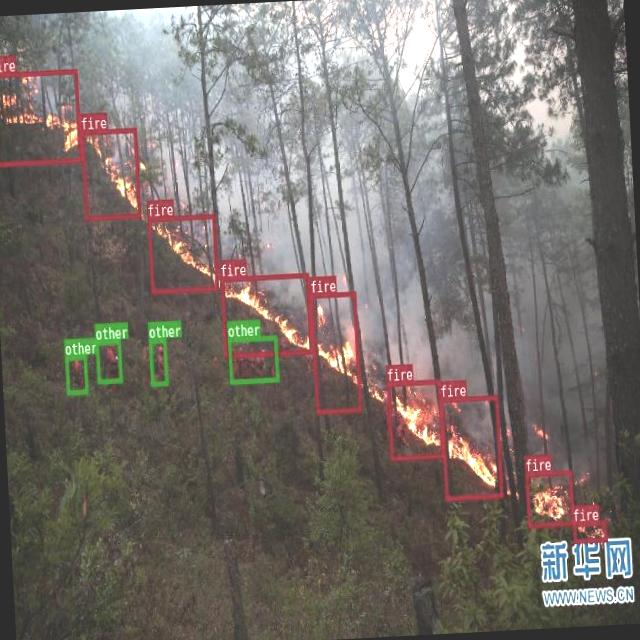fire: (0, 68, 81, 165), (220, 273, 312, 357), (440, 394, 503, 500), (310, 290, 361, 413), (147, 214, 219, 292), (80, 127, 140, 220), (386, 378, 444, 460), (524, 470, 574, 528), (573, 520, 607, 542)
